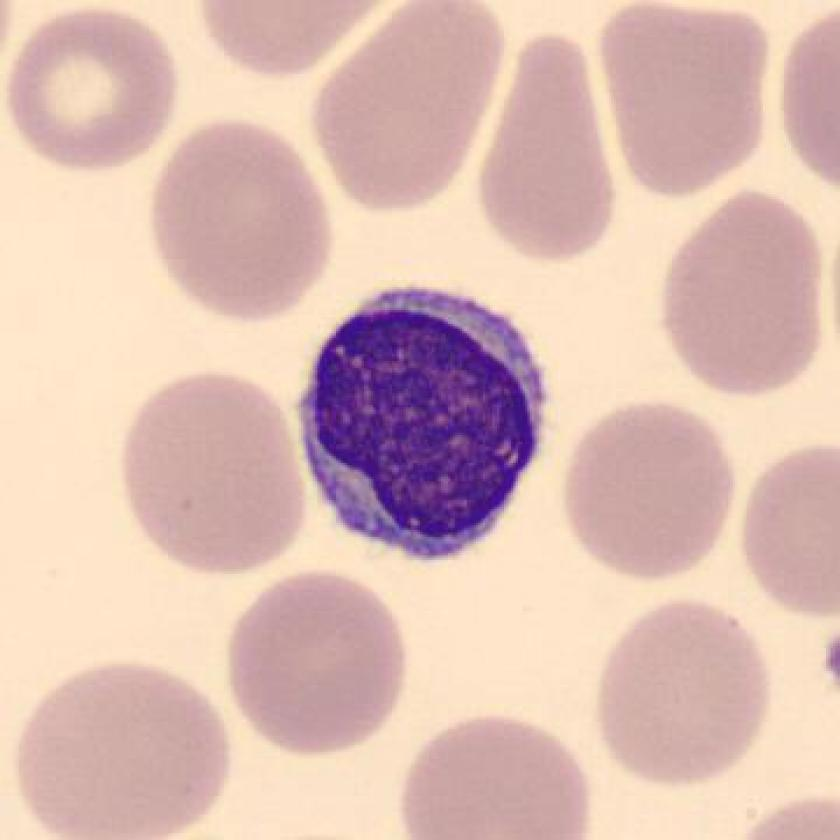lymphocyte: (286, 270, 568, 571)
